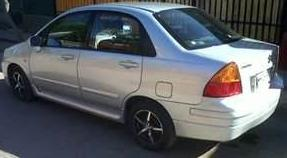back_view: (201, 42, 281, 132)
backlight: (200, 61, 246, 101)
side_glass: (41, 10, 145, 56)
